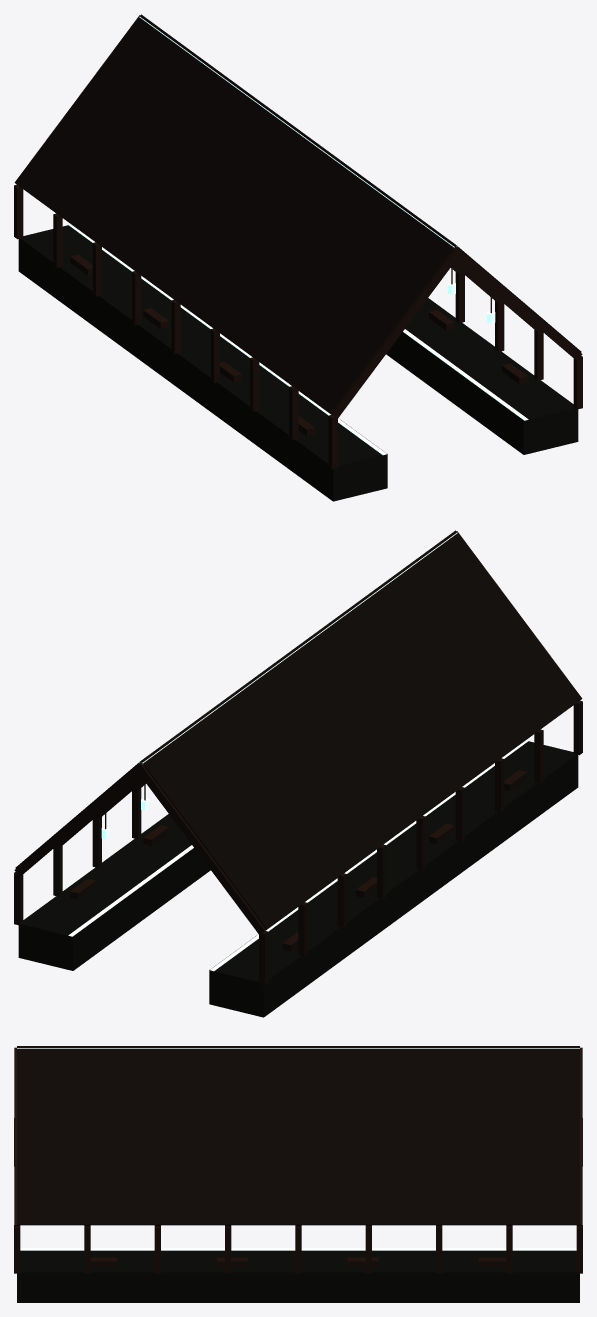
File: shaddai_station_forest_v01.glb
3 renders of one model, top to bottom at view 1: azimuth 30°, elevation 25°; view 2: azimuth 150°, elevation 25°; view 3: azimuth 270°, elevation 25°, orthographic. The views are drawn at different scales.
Visible parts, largest first — view 1: shaddai_station_forest; view 2: shaddai_station_forest; view 3: shaddai_station_forest.
Boxes of the visible parts, x1,y1,x2,y2 form: shaddai_station_forest: [14, 14, 582, 501]; shaddai_station_forest: [14, 530, 582, 1017]; shaddai_station_forest: [14, 1046, 582, 1302].
Size of the model in its own units: 18.52 by 15.95 by 40.44.
